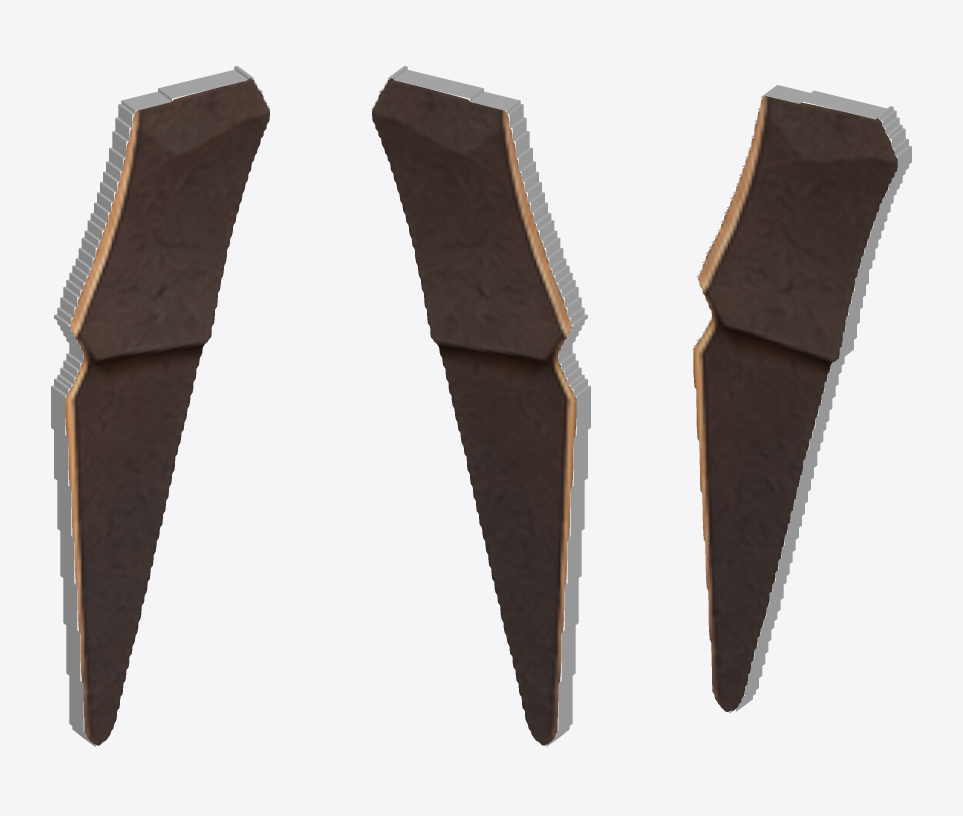
Rendered from Variant06Lower.glb.
3 renders of one model, left to right at view 1: azimuth 30°, elevation 25°; view 2: azimuth 150°, elevation 25°; view 3: azimuth 330°, elevation 25°, orthographic.
Visible parts, largest first — view 1: PaperVolume; view 2: PaperVolume; view 3: PaperVolume.
Boxes of the visible parts, x1,y1,x2,y2 form: PaperVolume: [51, 66, 269, 746]; PaperVolume: [372, 66, 590, 746]; PaperVolume: [693, 85, 911, 713].
Size of the model in its own units: 0.91 by 2.22 by 0.08.
Materials: 3 (2 with a texture image).
